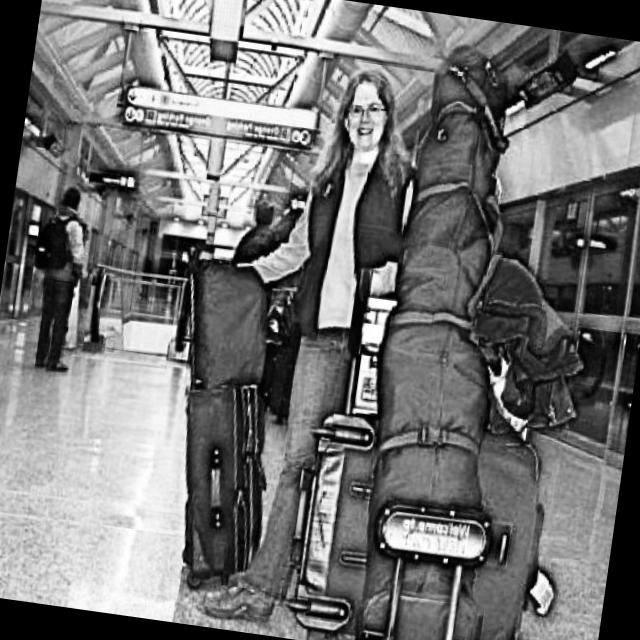Person: (192, 46, 438, 640), (24, 182, 100, 377)
